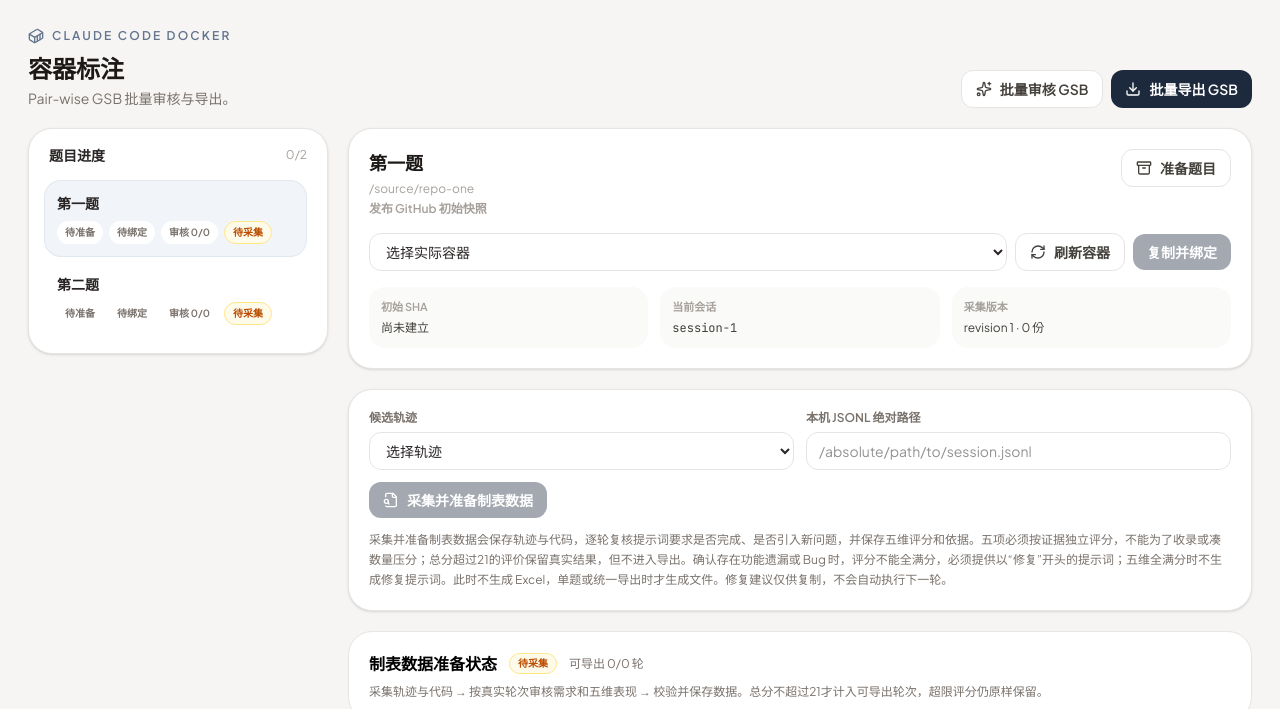
Test: AnnotationWorkspace › keeps a running action scoped to its case
Click the button "准备题目".
click(1176, 168)  # box [1121, 149, 1231, 187]
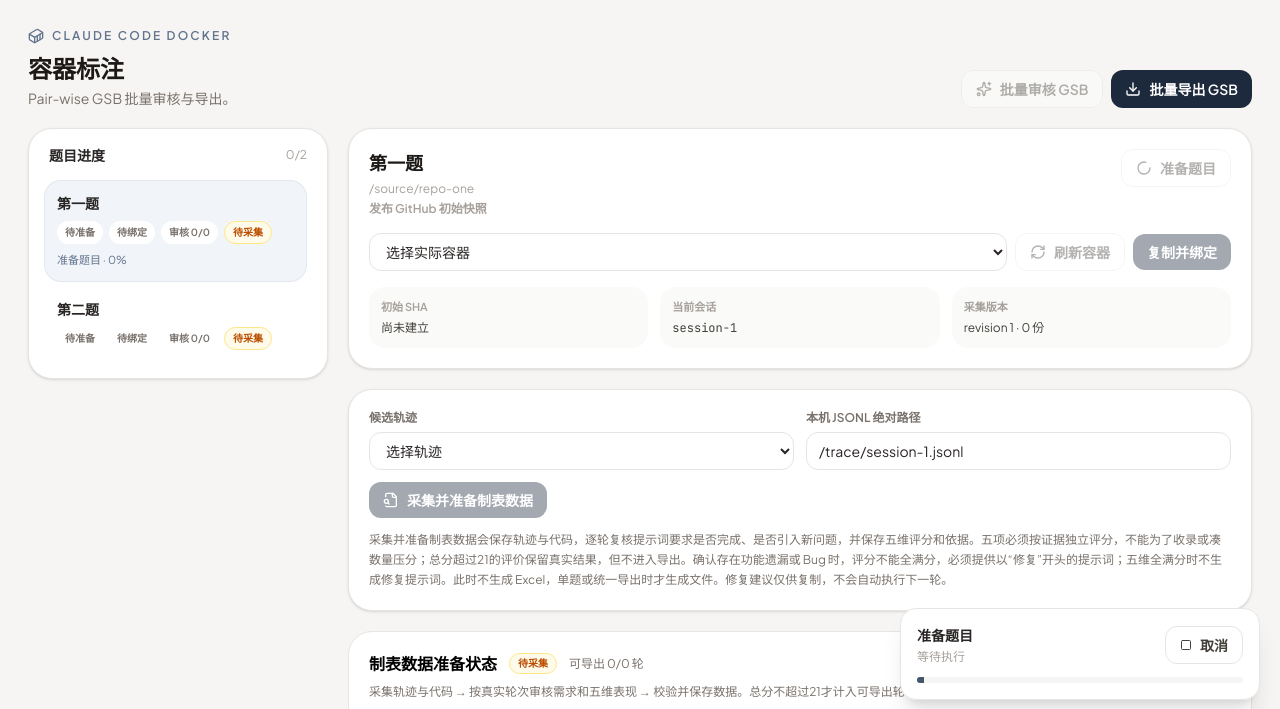
Click the button "第二题 待准备 待绑定 审核 0/0 待采集".
click(176, 324)  # box [45, 286, 306, 362]
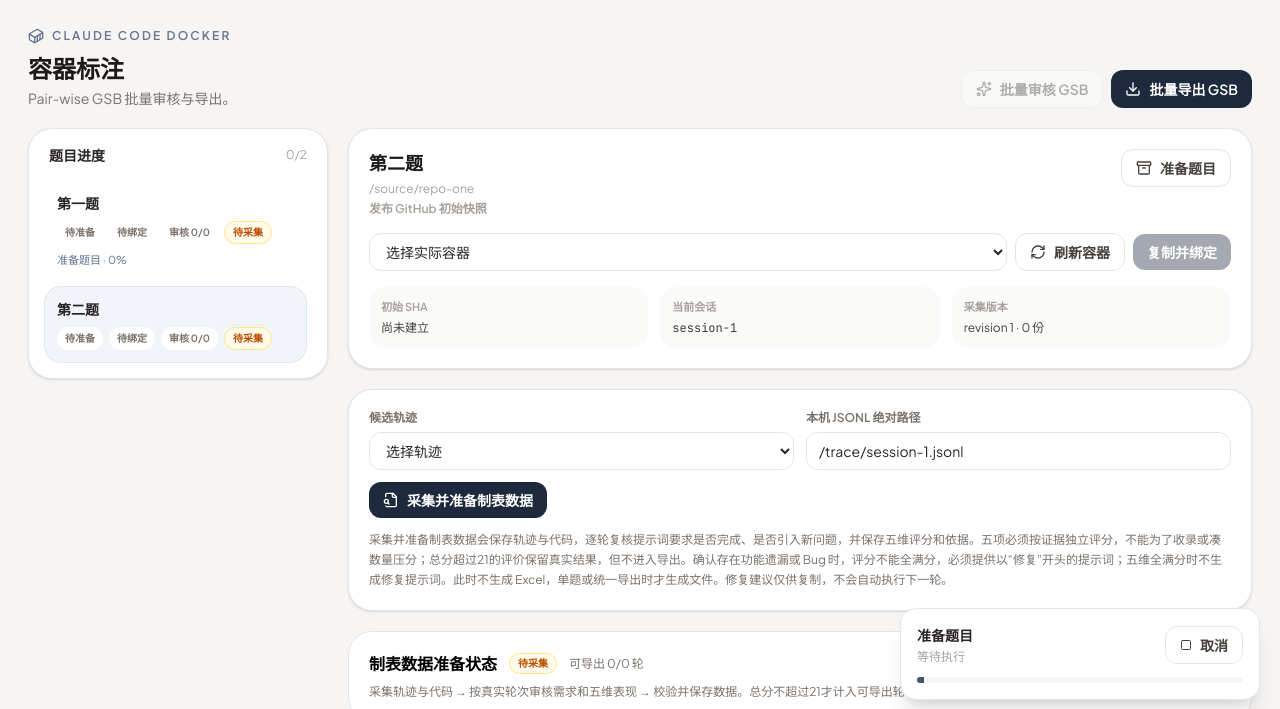
Now the button "准备题目" is enabled, box [1121, 149, 1231, 187]
